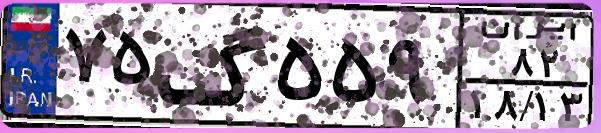1: (470, 70, 495, 125), (535, 70, 560, 125)
2: (537, 27, 568, 80)
3: (560, 70, 590, 125)
5: (270, 28, 330, 110), (330, 28, 385, 110), (110, 28, 156, 98)
7: (57, 26, 110, 100)
8: (508, 27, 537, 80), (495, 70, 520, 125)
9: (385, 28, 445, 110)
گ: (156, 12, 270, 120)
